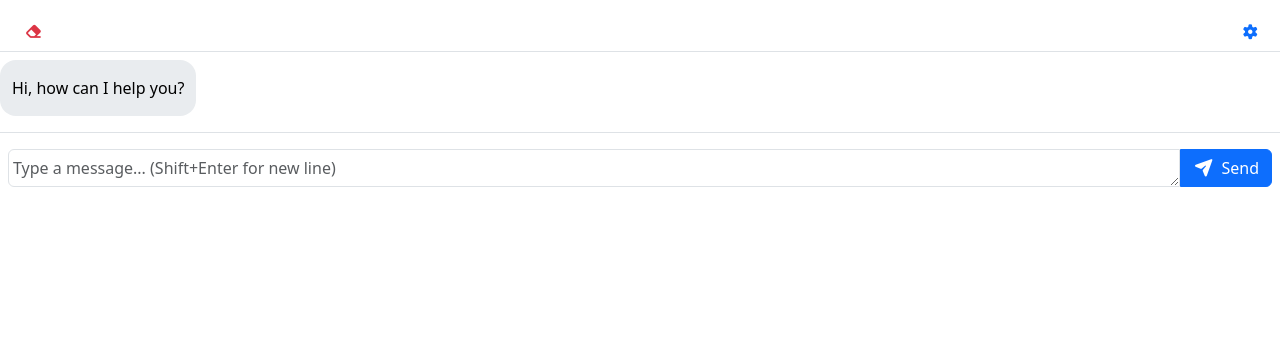
Test: Chat request errors › keeps waiting while data keeps arriving
The image size is (1280, 339).
Expected: the button "Send" is shown, [1180,149,1272,187]
Type "hello" into the text box with placeholder "Type a message... (Shift+Enter for new line)" at (594,168), box [8,149,1180,187]
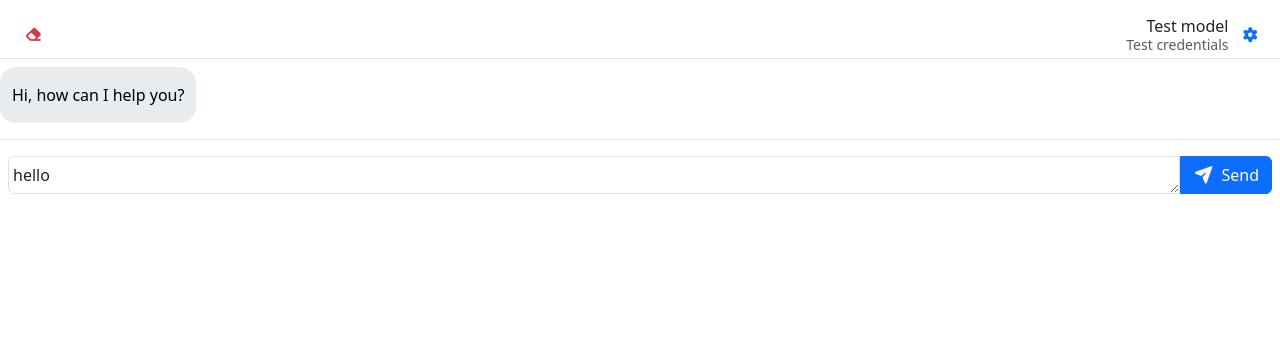
Click the button "Send" at (1226,174), box [1180,156,1272,194]
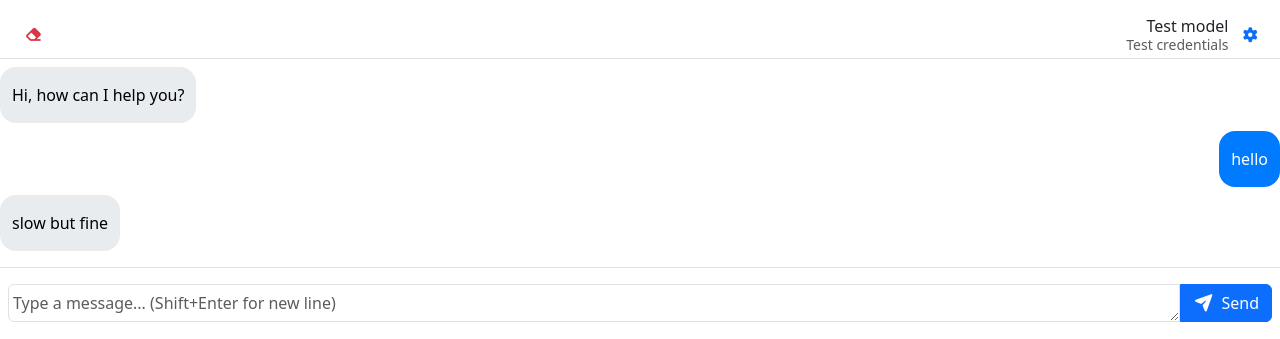
Expected: the text "slow but fine" is shown, [12,210,108,234]
